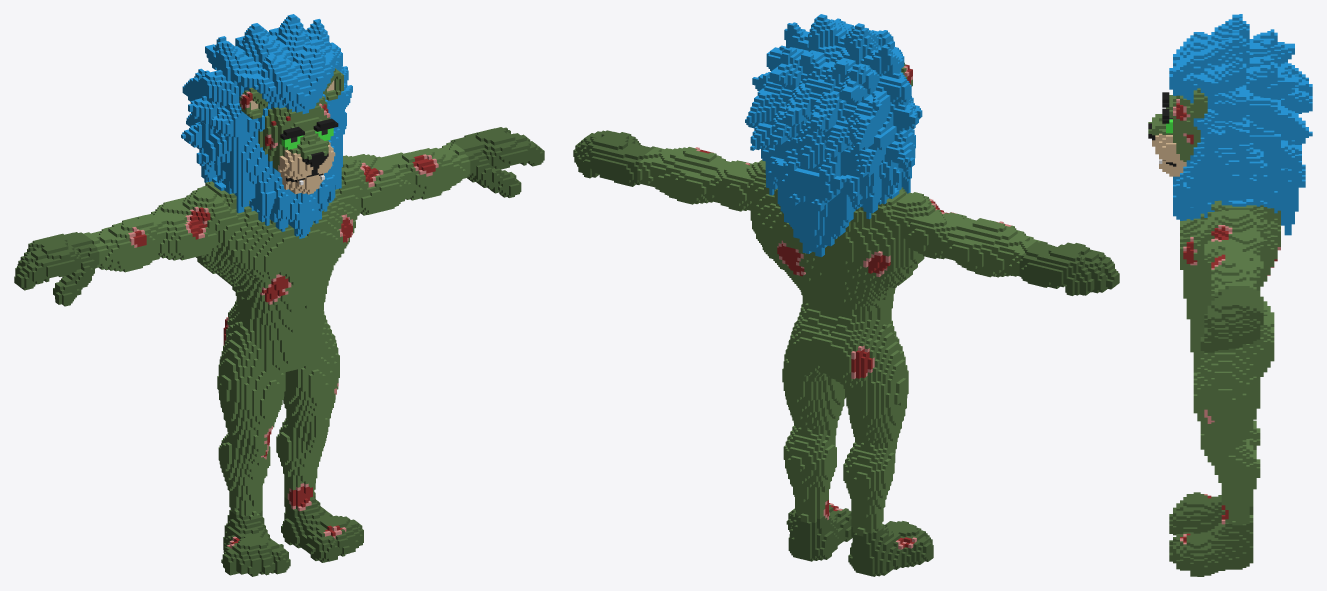
File: 314-BD44zCc7.glb
The picture shows the model from 3 angles, left to right: view 1: azimuth 30°, elevation 25°; view 2: azimuth 150°, elevation 25°; view 3: azimuth 270°, elevation 25°; orthographic projection. The views are drawn at different scales.
Visible parts, largest first — view 1: standard; view 2: standard; view 3: standard.
Boxes of the visible parts, x1,y1,x2,y2 form: standard: (14, 14, 544, 576); standard: (573, 14, 1119, 576); standard: (1148, 14, 1312, 576).
Bounding box in the file's own units: 17.2 × 16.5 × 4.7.
4 materials, 4 textured.
